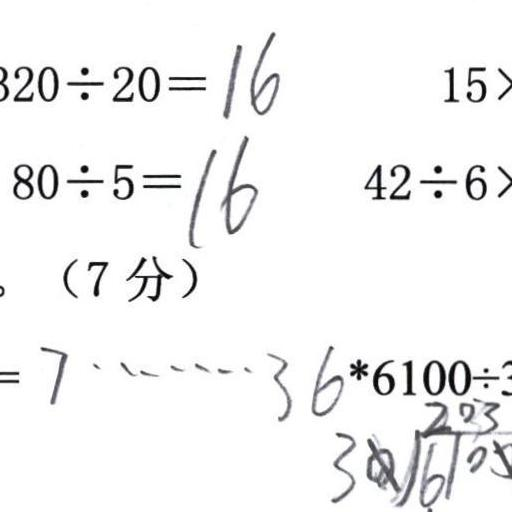ans: (37, 341, 344, 422), (181, 132, 260, 245), (216, 29, 281, 119)
